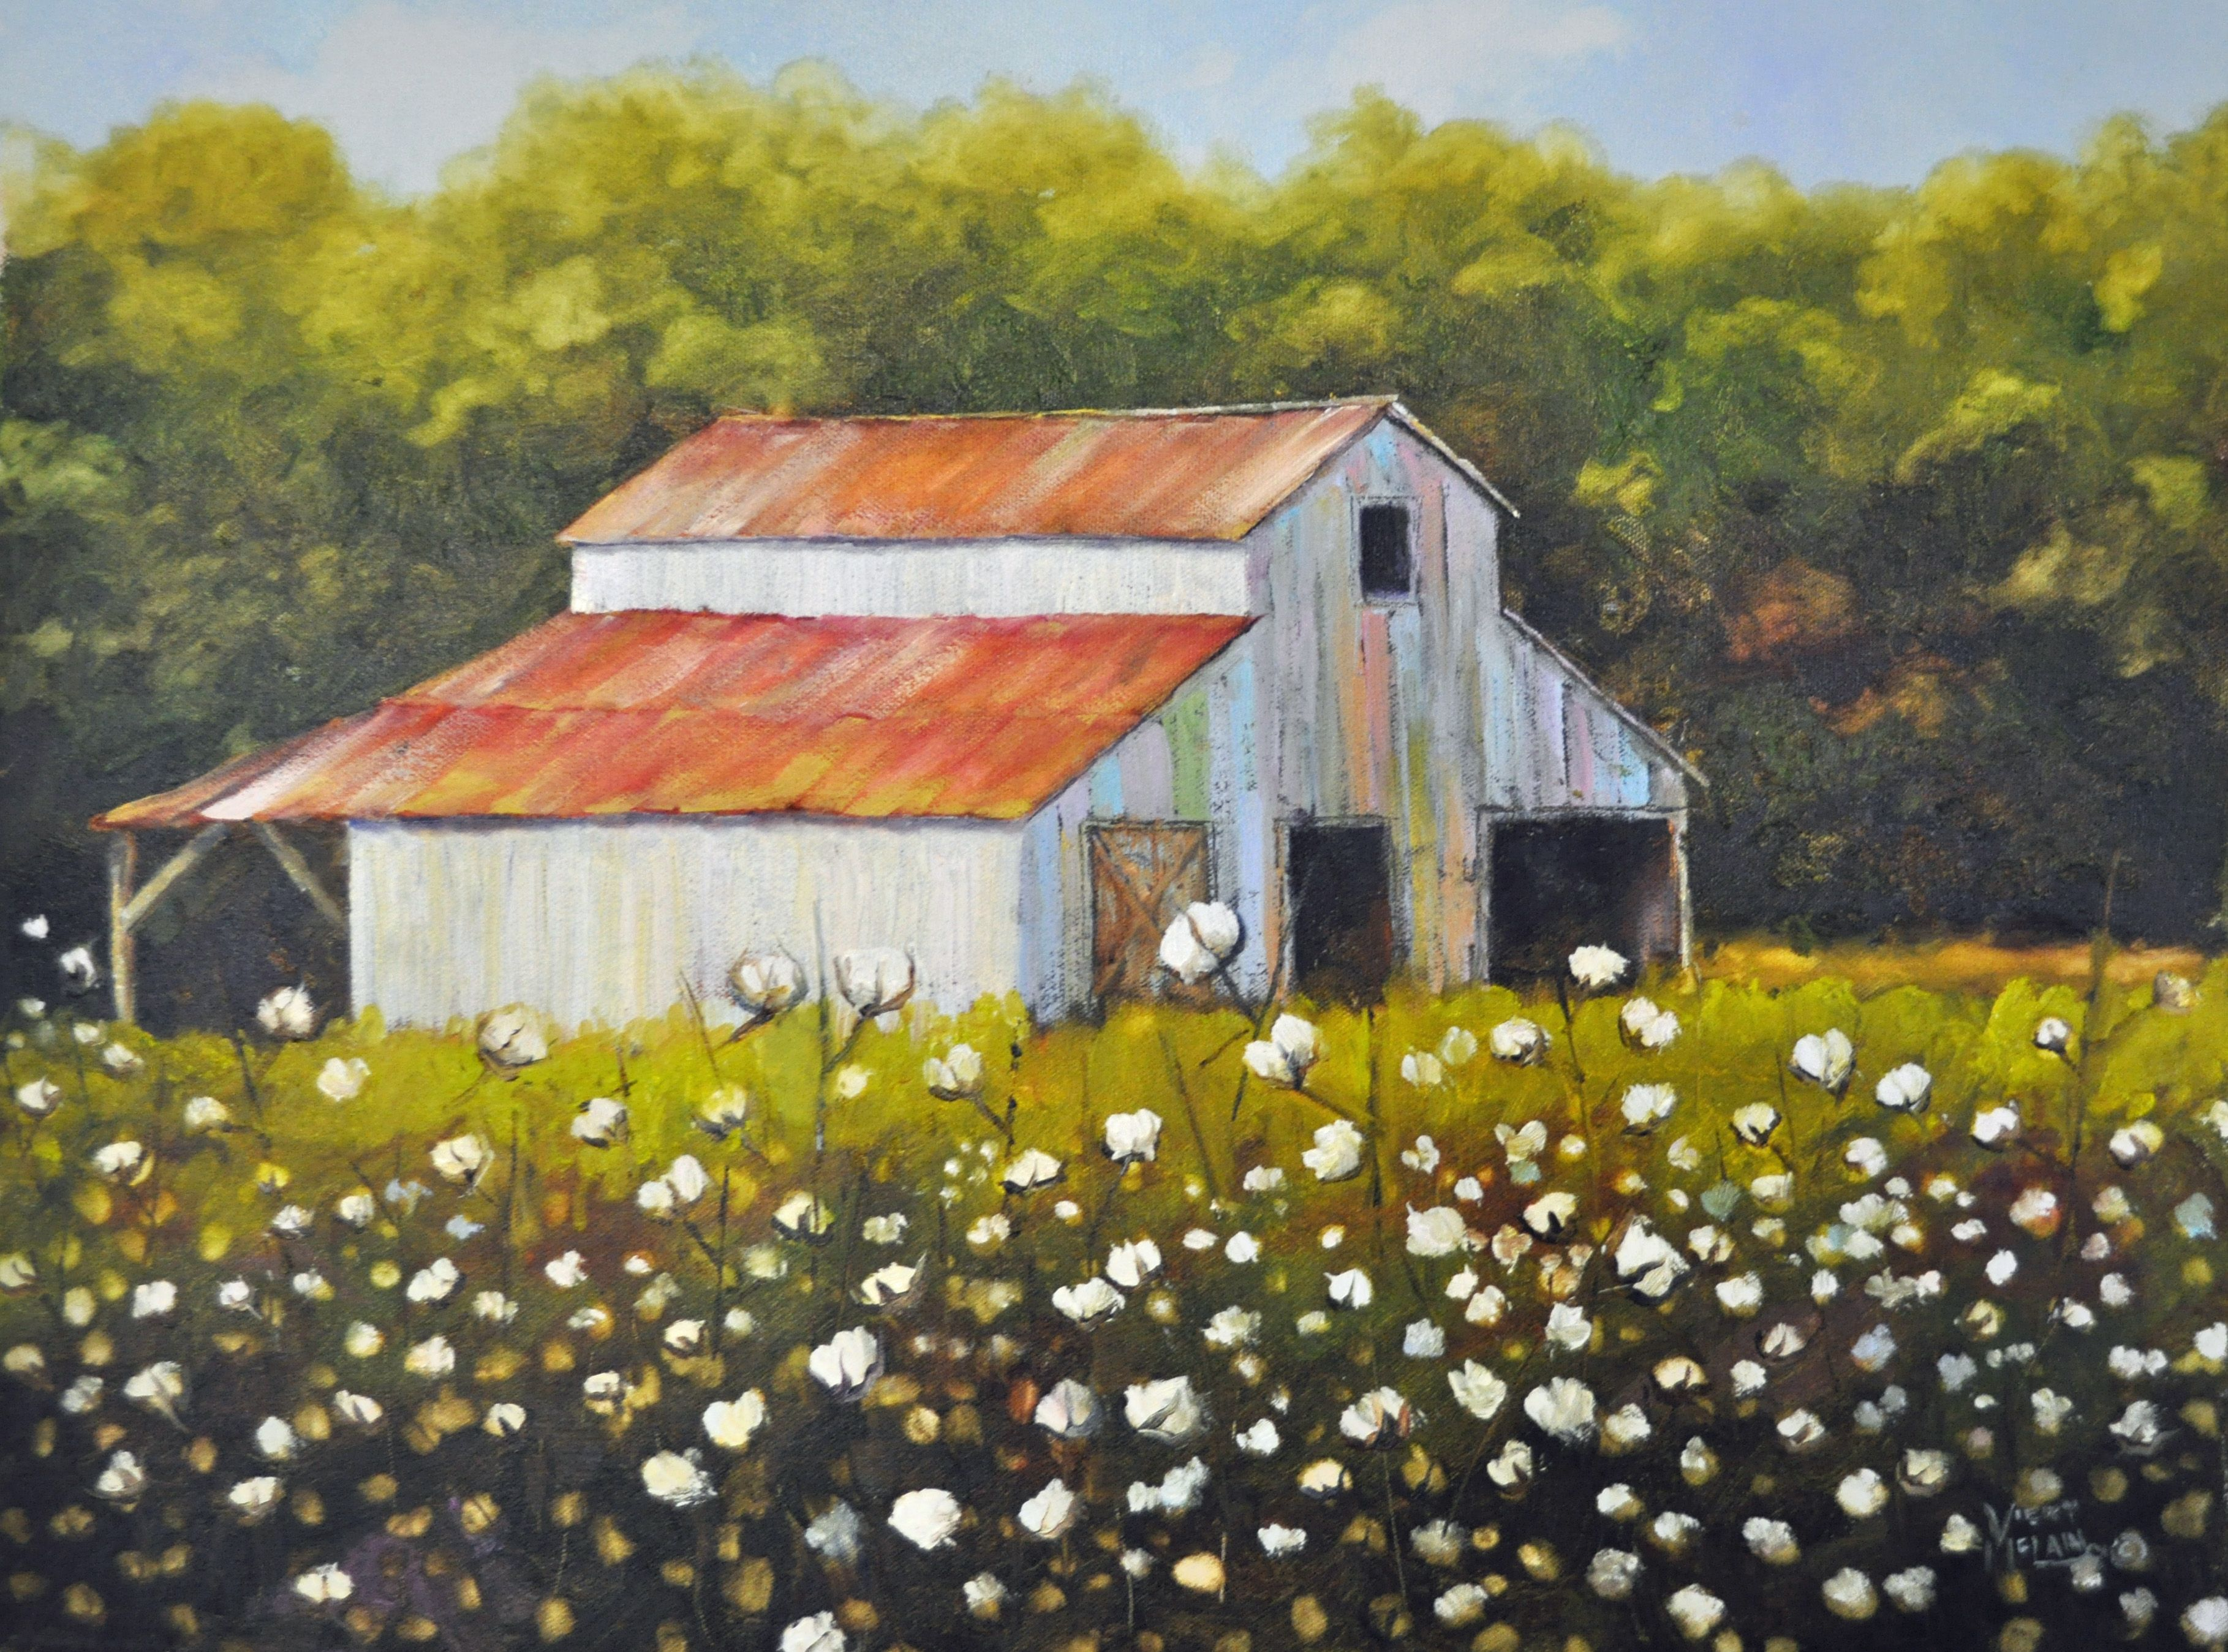cotton: (1060, 888, 2228, 1631)
house: (88, 390, 1728, 1031)
